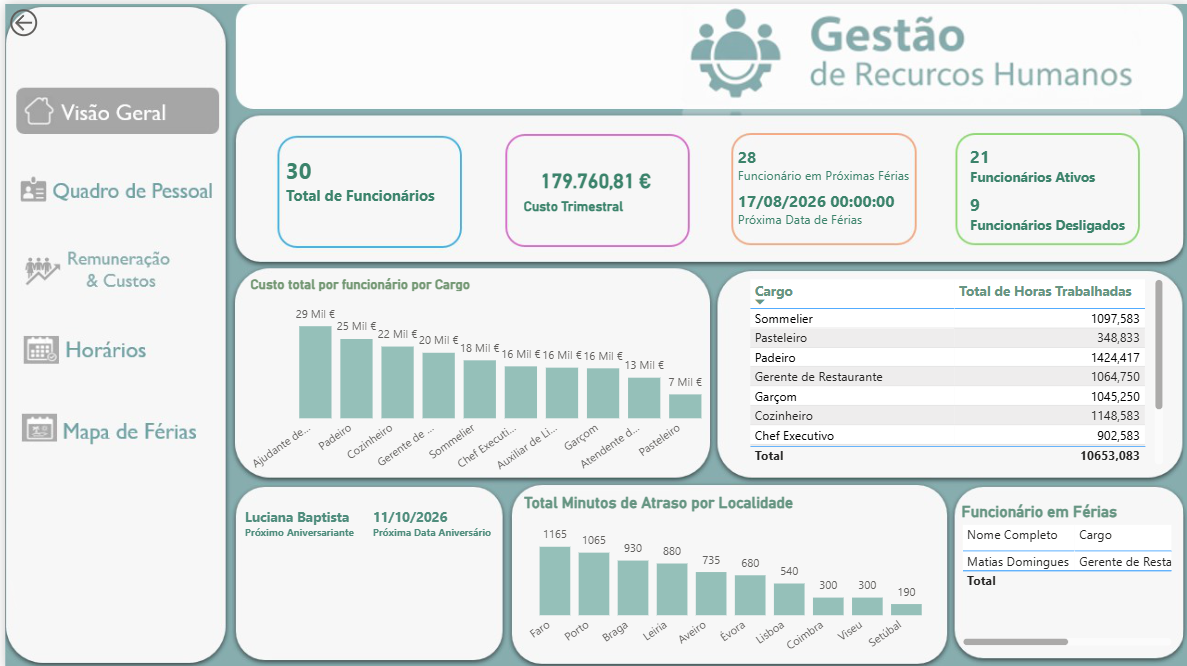

Layout of this report page (visuals, bound fields, positions):
{"tool":"powerbi","page":{"name":"Visão Geral","canvas":[1280,720],"ordinal":0},"visuals":[{"type":"multiRowCard","fields":{"Values":["Medidas.Total de Funcionario"]},"box":[298.6,158.9,187.6,89.9],"z":0},{"type":"cardVisual","fields":{"Data":["Medidas.Custo Bimestral"]},"box":[543.6,158.9,189.5,88],"z":1000},{"type":"multiRowCard","fields":{"Values":["Medidas.Funcionário em Próximas Férias","Medidas.Próxima Data de Férias"]},"box":[786.7,147.4,214.4,120.6],"z":2000},{"type":"actionButton","box":[0,0,100,40],"z":3000},{"type":"multiRowCard","fields":{"Values":["Medidas.Funcionários Ativos","Medidas.Funcionários Desligados"]},"box":[1037.4,145.5,195.2,109.1],"z":4000},{"type":"clusteredColumnChart","title":"Custo total por funcionário por Cargo","fields":{"Category":["Cargo.Cargo"],"Y":["Média de Antiguidade anos.Custo total por funcionario"]},"box":[260,293.8,515.4,221.5],"z":5000},{"type":"tableEx","fields":{"Values":["Cargo.Cargo","Média de Antiguidade anos.Total de Horas Trabalhadas"]},"box":[798.6,292.4,456.8,210.2],"z":6000},{"type":"clusteredColumnChart","fields":{"Category":["Localidade.Localidade"],"Y":["Média de Antiguidade anos.Total Minutos de Atraso"]},"box":[555.4,529.2,456.9,190.8],"z":7000},{"type":"multiRowCard","fields":{"Values":["Medidas.Próximo Aniversariante","Medidas.Próxima Data Aniversário"]},"box":[253.8,538.5,286.2,160],"z":8000},{"type":"tableEx","title":"Funcionário em Férias","fields":{"Values":["Base de funcionarios.Nome Completo","Cargo.Cargo","Média de Antiguidade anos.Funcionários Ausentes Hoje"]},"box":[1027.7,538.5,236.8,159.7],"z":9000}]}

Visuals, with their boxes on the page's 1280x720 design canvas (x1, y1, x2, y2). These are canvas units, not pixel positions in the 1187x666 screenshot, which may show the page scaled, cropped or inside an application window:
multiRowCard - Medidas.Total de Funcionario: (x1=299, y1=159, x2=486, y2=249)
cardVisual - Medidas.Custo Bimestral: (x1=544, y1=159, x2=733, y2=247)
multiRowCard - Medidas.Funcionário em Próximas Férias x Medidas.Próxima Data de Férias: (x1=787, y1=147, x2=1001, y2=268)
actionButton: (x1=0, y1=0, x2=100, y2=40)
multiRowCard - Medidas.Funcionários Ativos x Medidas.Funcionários Desligados: (x1=1037, y1=146, x2=1233, y2=255)
"Custo total por funcionário por Cargo" clusteredColumnChart: (x1=260, y1=294, x2=775, y2=515)
tableEx - Cargo.Cargo x Média de Antiguidade anos.Total de Horas Trabalhadas: (x1=799, y1=292, x2=1255, y2=503)
clusteredColumnChart - Localidade.Localidade x Média de Antiguidade anos.Total Minutos de Atraso: (x1=555, y1=529, x2=1012, y2=720)
multiRowCard - Medidas.Próximo Aniversariante x Medidas.Próxima Data Aniversário: (x1=254, y1=538, x2=540, y2=698)
"Funcionário em Férias" tableEx: (x1=1028, y1=538, x2=1264, y2=698)
